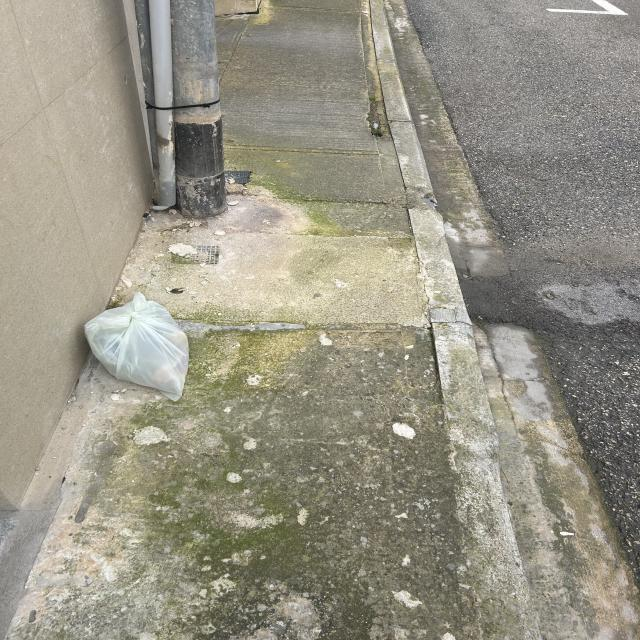white_bag: (77, 288, 209, 402)
